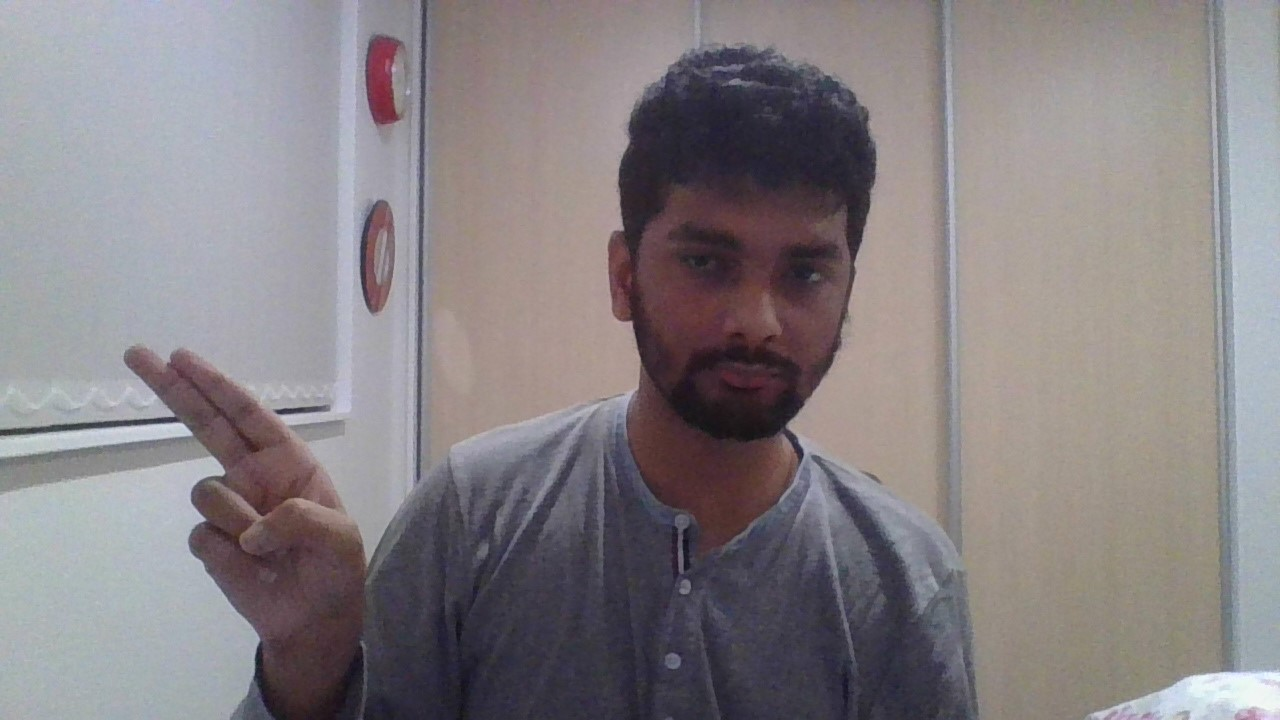peace: (123, 343, 366, 640)
